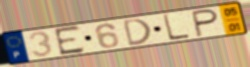3: (27, 30, 55, 59)
6: (94, 22, 121, 49)
D: (122, 17, 153, 48)
E: (52, 24, 87, 57)
L: (162, 13, 192, 42)
P: (190, 7, 220, 38)
